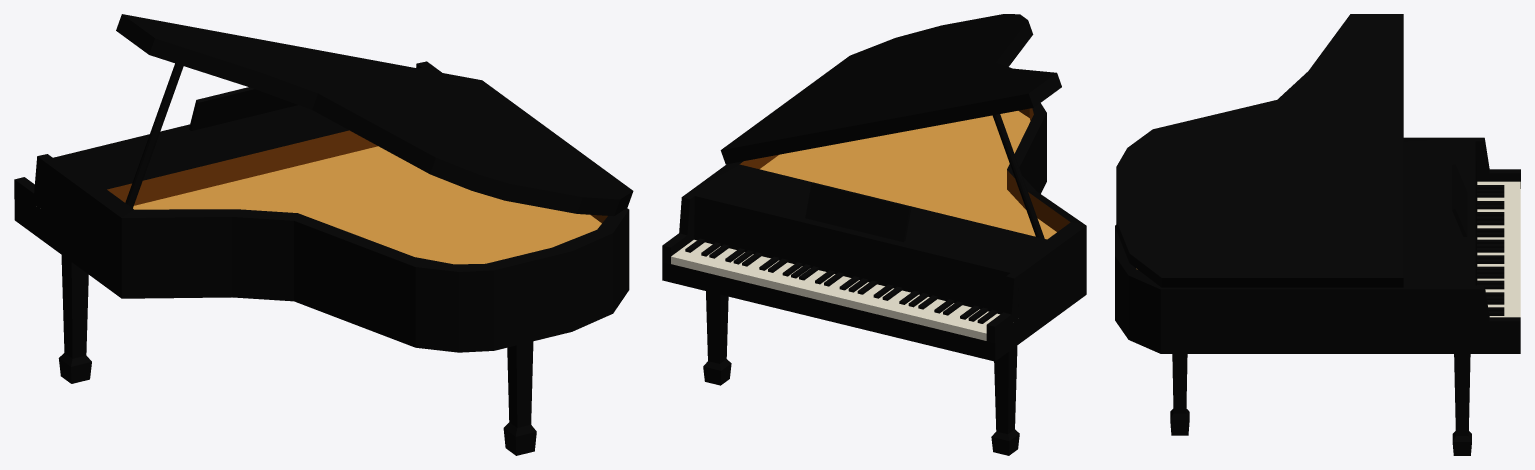
The model's file is LowPolyPianoShattered.glb.
The picture shows the model from 3 angles, left to right: view 1: azimuth 30°, elevation 25°; view 2: azimuth 150°, elevation 25°; view 3: azimuth 270°, elevation 25°; orthographic projection. The views are drawn at different scales.
Parts seen in each view (by area): view 1: Piano, Lid, Cube.001, Cube.003, Cube, Prop, RightSide; view 2: Piano, Lid, Cube, Cube.001, Cube.002, RightSide, LeftSide, Prop; view 3: Lid, Piano, Cube.002, Cube.003, LeftSide, RightSide, Cube.
Part boxes in pixels (left/top/right/bottom): Piano: left=14, top=65, right=629, bottom=352; Lid: left=116, top=14, right=633, bottom=216; Cube.001: left=58, top=255, right=91, bottom=383; Cube.003: left=503, top=341, right=536, bottom=455; Cube: left=189, top=87, right=297, bottom=130; Prop: left=125, top=63, right=183, bottom=208; RightSide: left=14, top=154, right=52, bottom=211; Piano: left=662, top=103, right=1086, bottom=361; Lid: left=720, top=14, right=1061, bottom=164; Cube: left=805, top=183, right=911, bottom=241; Cube.001: left=991, top=346, right=1019, bottom=455; Cube.002: left=703, top=291, right=731, bottom=385; RightSide: left=986, top=273, right=1018, bottom=343; LeftSide: left=662, top=193, right=694, bottom=264; Prop: left=992, top=114, right=1044, bottom=238; Lid: left=1116, top=14, right=1403, bottom=287; Piano: left=1115, top=137, right=1520, bottom=353; Cube.002: left=1452, top=354, right=1471, bottom=455; Cube.003: left=1170, top=354, right=1189, bottom=435; LeftSide: left=1475, top=285, right=1520, bottom=337; RightSide: left=1475, top=137, right=1520, bottom=188; Cube: left=1452, top=164, right=1467, bottom=236.
Bounding box in the file's own units: 1.72 × 1.66 × 1.92.
